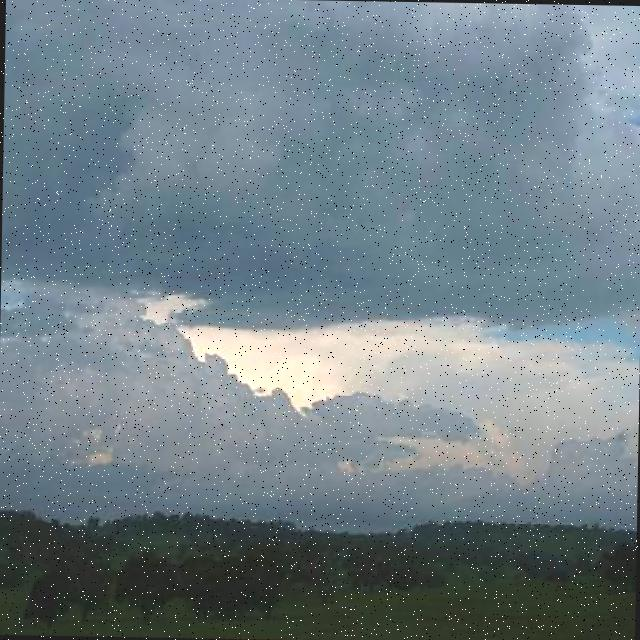As: (1, 54, 640, 493)
